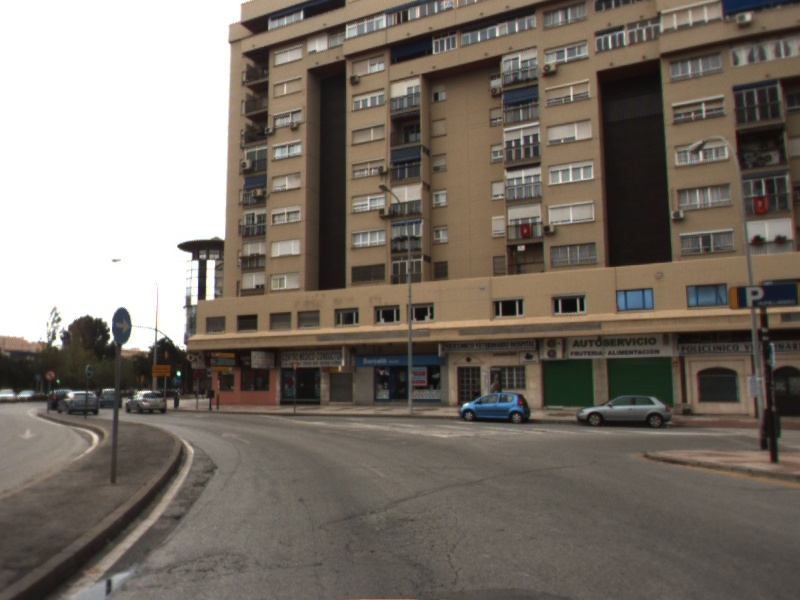STRAIGHT: (218, 429, 254, 446)
